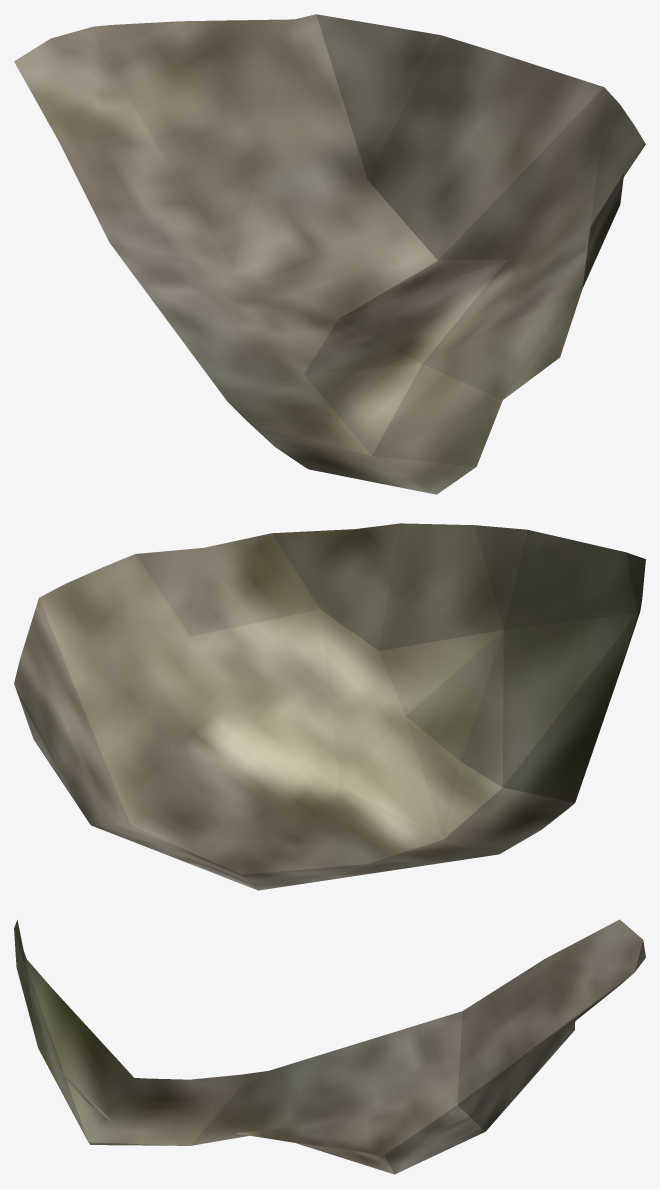
3 renders of one model, top to bottom at view 1: azimuth 30°, elevation 25°; view 2: azimuth 150°, elevation 25°; view 3: azimuth 270°, elevation 25°, orthographic. The views are drawn at different scales.
Size of the model in its own units: 0.7268 by 0.3794 by 1.16.
Materials: 1 (1 with a texture image).
